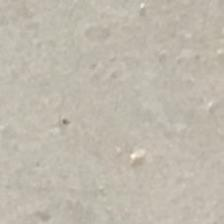Non_Crack: (33, 32, 178, 158)
